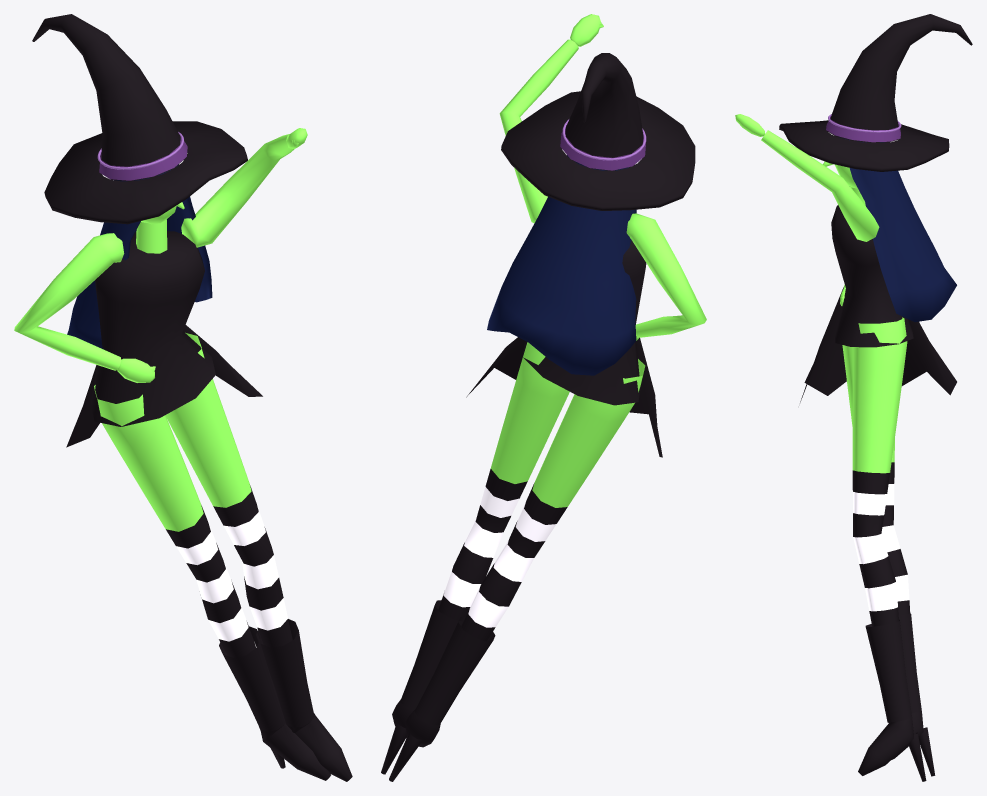
Rendered from witch_sway.glb.
3 views of the same model, side by side, from view 1: azimuth 30°, elevation 25°; view 2: azimuth 150°, elevation 25°; view 3: azimuth 270°, elevation 25° (orthographic). The views are drawn at different scales.
Parts seen in each view (by area): view 1: HWG_Witch_sway; view 2: HWG_Witch_sway; view 3: HWG_Witch_sway.
Boxes of the visible parts, x1,y1,x2,y2 form: HWG_Witch_sway: [14, 14, 352, 781]; HWG_Witch_sway: [381, 14, 706, 781]; HWG_Witch_sway: [735, 14, 972, 781].
Size of the model in its own units: 0.55 by 1.3 by 0.4158.
